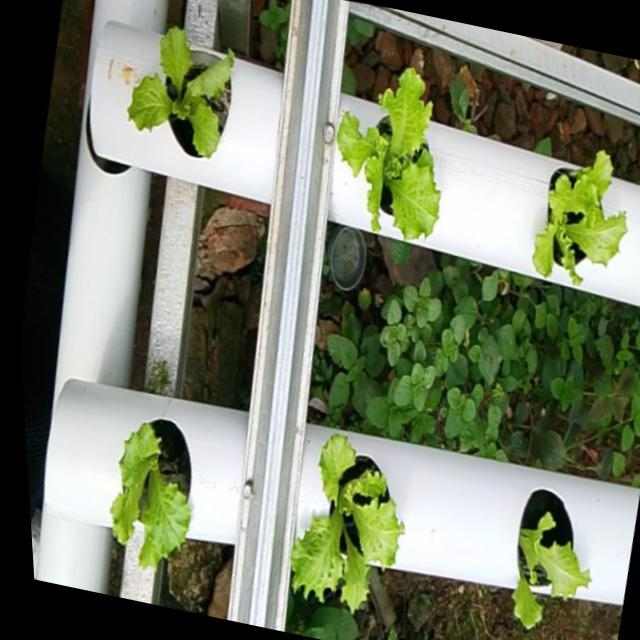Baby: (287, 435, 400, 617), (331, 70, 435, 242), (122, 30, 229, 162), (526, 150, 620, 285), (106, 422, 186, 572), (508, 486, 585, 626)
